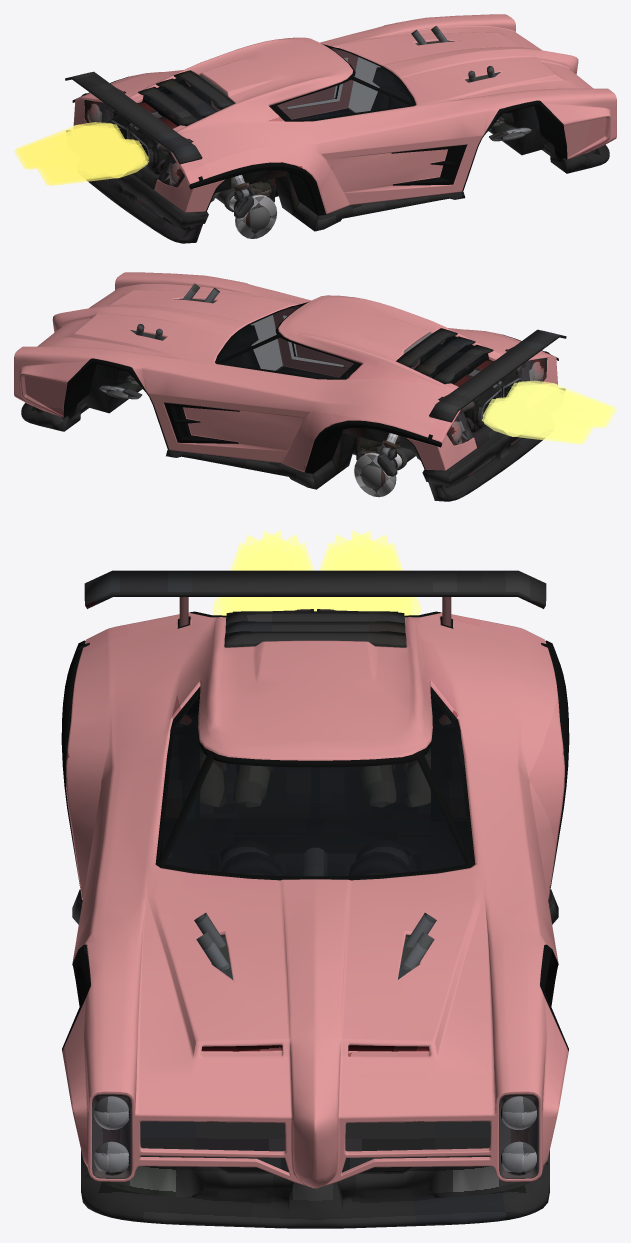
File: Dominus_MuscleCar_ThreeWheel_Variant.glb
3 views of the same model, one above another, from view 1: azimuth 30°, elevation 25°; view 2: azimuth 150°, elevation 25°; view 3: azimuth 270°, elevation 25° (orthographic). The views are drawn at different scales.
Visible parts, largest first — view 1: Dominus_MuscleCar_ThreeWheel_Variant; view 2: Dominus_MuscleCar_ThreeWheel_Variant; view 3: Dominus_MuscleCar_ThreeWheel_Variant.
Boxes of the visible parts, box(x1,y1,x2,y2) form: Dominus_MuscleCar_ThreeWheel_Variant: box(14, 14, 616, 243); Dominus_MuscleCar_ThreeWheel_Variant: box(14, 272, 616, 501); Dominus_MuscleCar_ThreeWheel_Variant: box(61, 530, 569, 1228).
Size of the model in its own units: 1.8 by 0.3947 by 0.7251.
6 materials, 5 textured.
